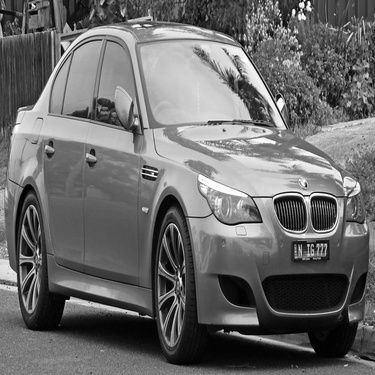car: (2, 8, 372, 365)
